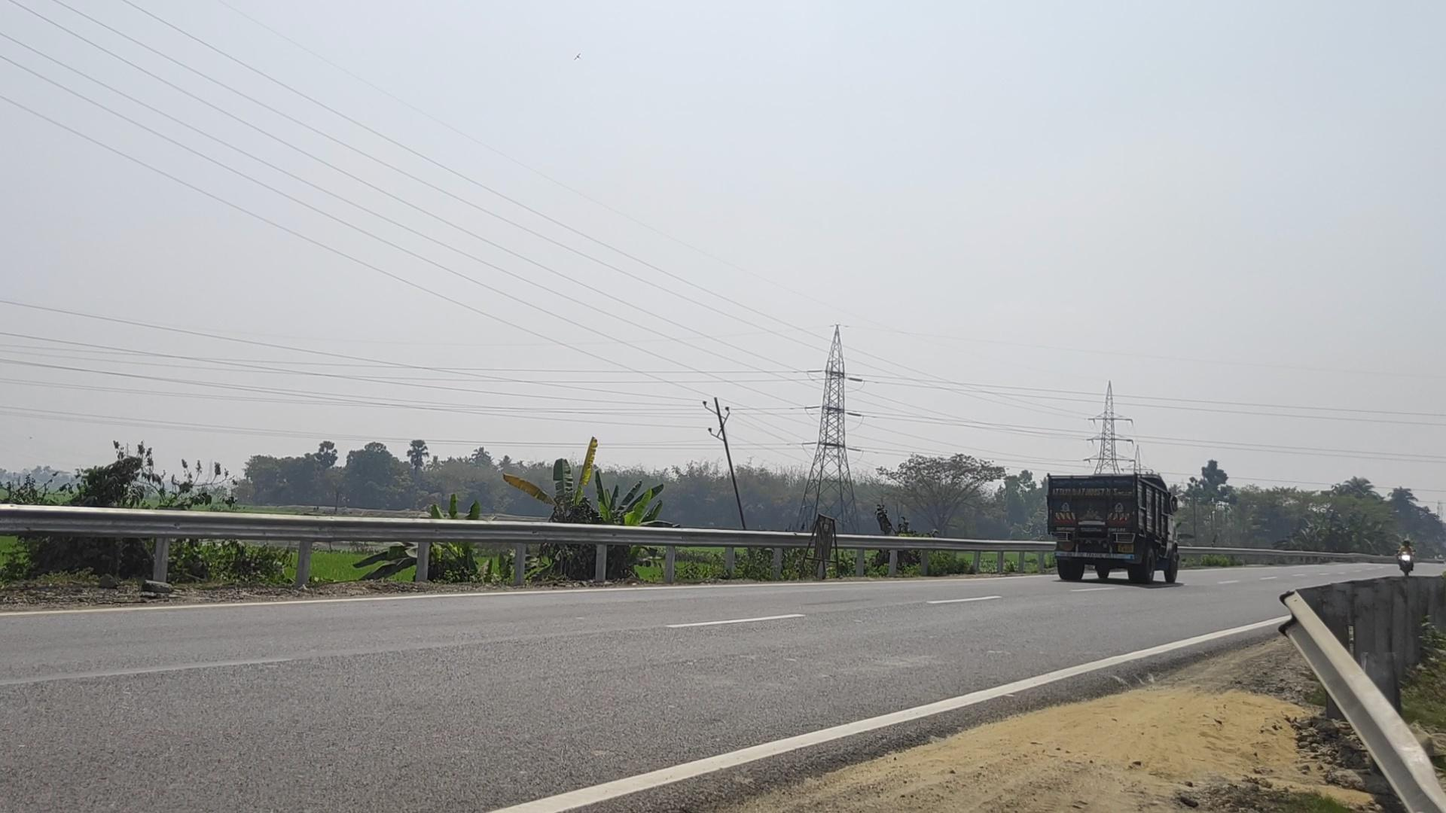bike: (1396, 539, 1417, 577)
truck: (1046, 472, 1180, 585)
